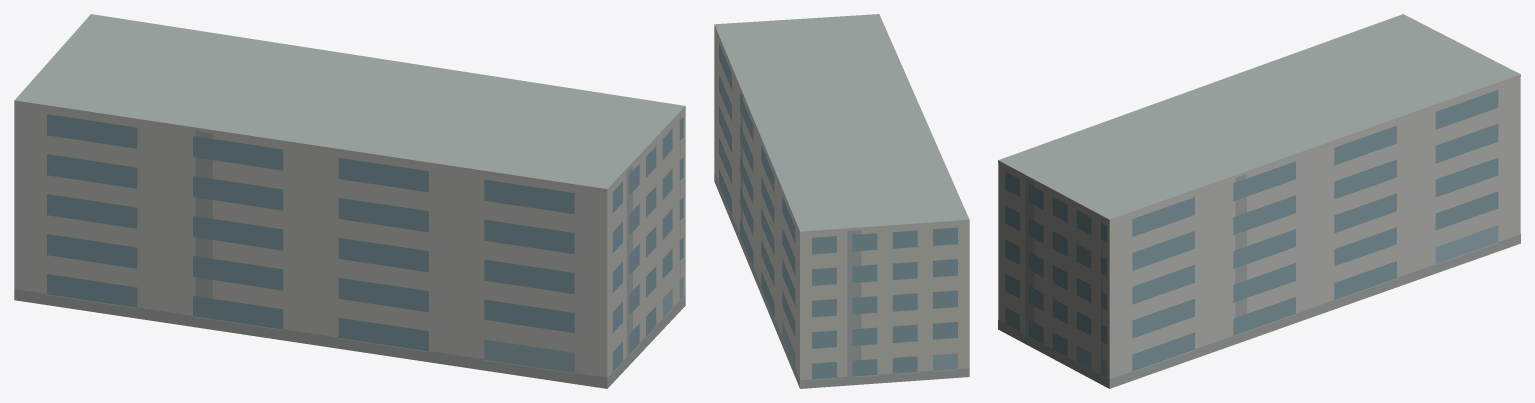
The model's file is survey-upis-33045510.glb.
3 views of the same model, side by side, from view 1: azimuth 30°, elevation 25°; view 2: azimuth 150°, elevation 25°; view 3: azimuth 270°, elevation 25° (orthographic). The views are drawn at different scales.
Visible parts, largest first — view 1: survey-upis-33045510.tmp; view 2: survey-upis-33045510.tmp; view 3: survey-upis-33045510.tmp.
Boxes of the visible parts, x1,y1,x2,y2 form: survey-upis-33045510.tmp: [14, 14, 685, 388]; survey-upis-33045510.tmp: [714, 14, 969, 388]; survey-upis-33045510.tmp: [998, 14, 1520, 388].
Bounding box in the file's own units: 38.32 × 14.7 × 41.15.
